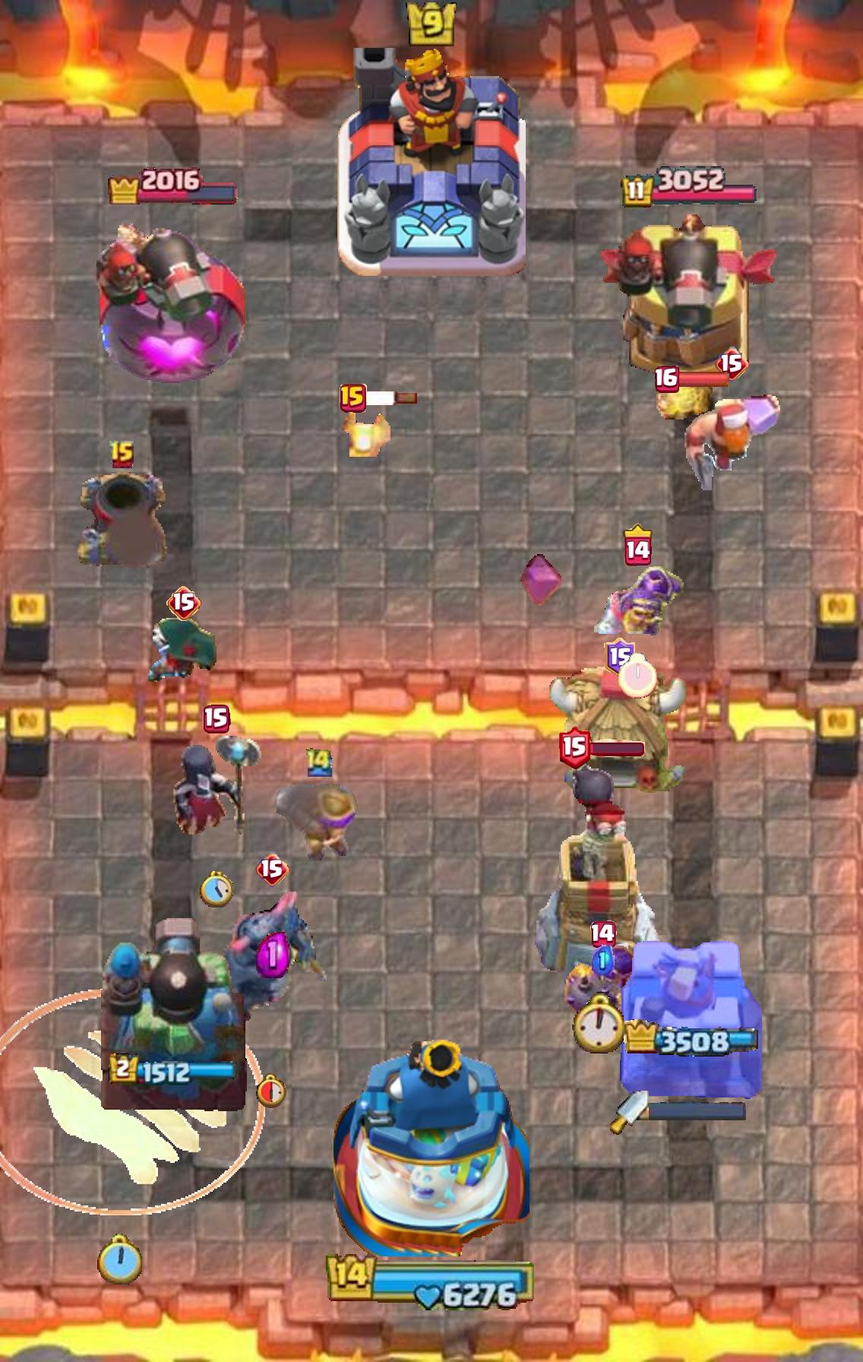elixir: (256, 931, 289, 978), (592, 945, 615, 975)
musketeer: (277, 776, 362, 867)
